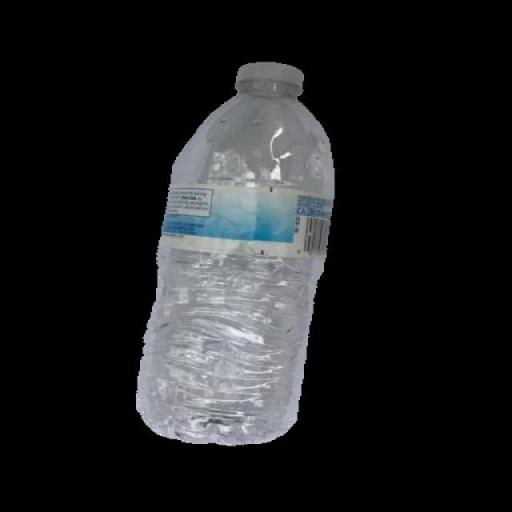plastic: (135, 59, 338, 447)
